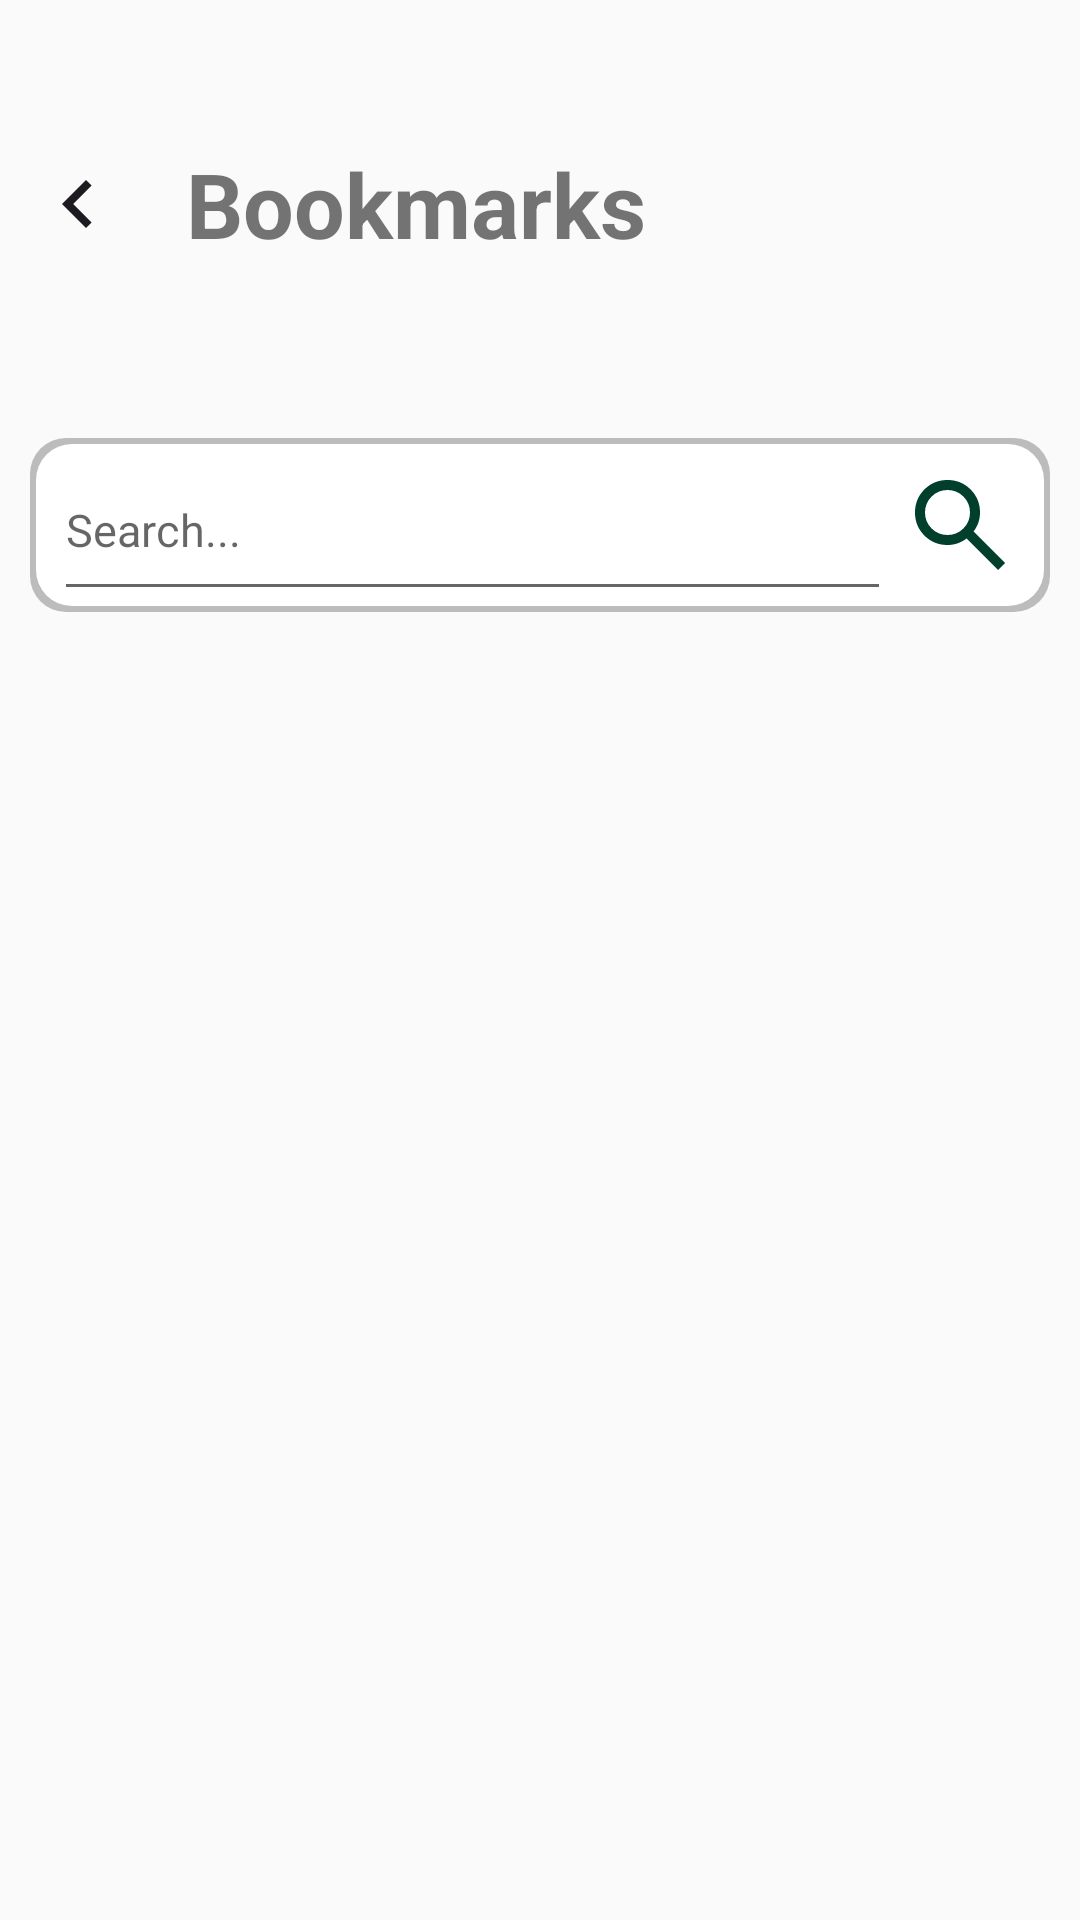

Icon bounding boxes for this 1080x1920 phone screenshot, format [x1, y1, x2, y2]:
back: [62, 180, 92, 228]
